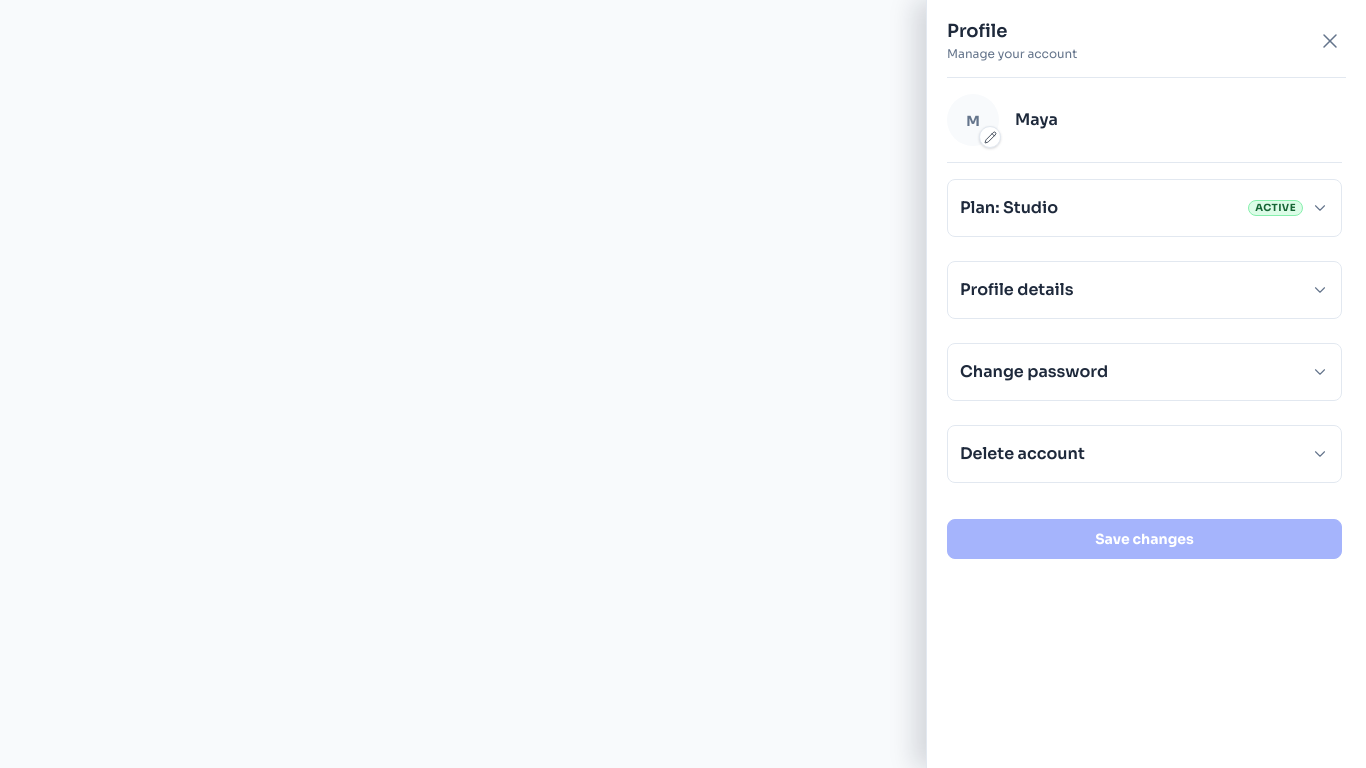
Scenario: ProfileDrawer › shows and removes account editors for owners
This screenshot has width=1366, height=768.
Click the button "Plan: Studio Active" at x=981, y=208, box [948,180,1341,236]
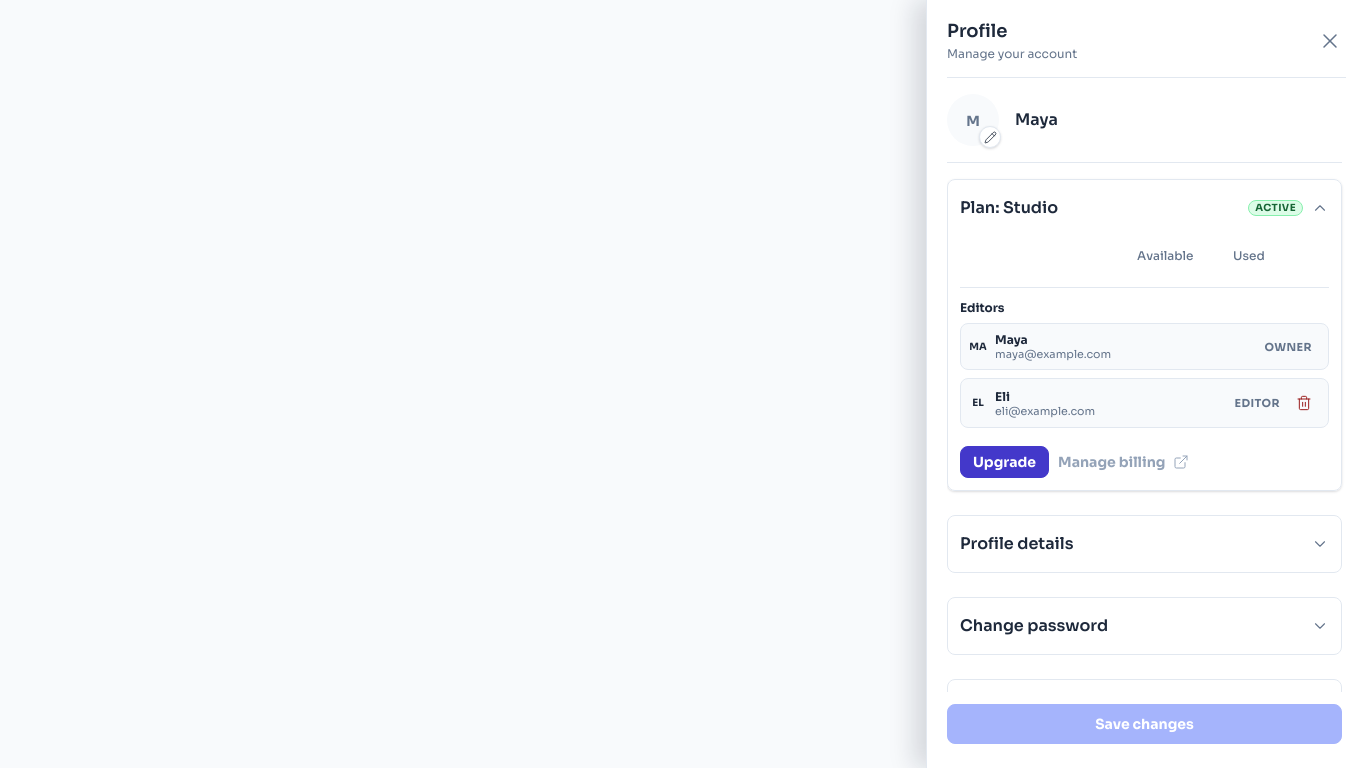
Expected: the text "Editors" is shown, [960,300,1004,315]
Expected: the text "Eli" is shown, [995,388,1010,404]
Expected: the text "eli@example.com" is shown, [995,404,1095,418]
Click the button named "Remove Eli" at x=1304, y=403, box [1288,387,1320,419]
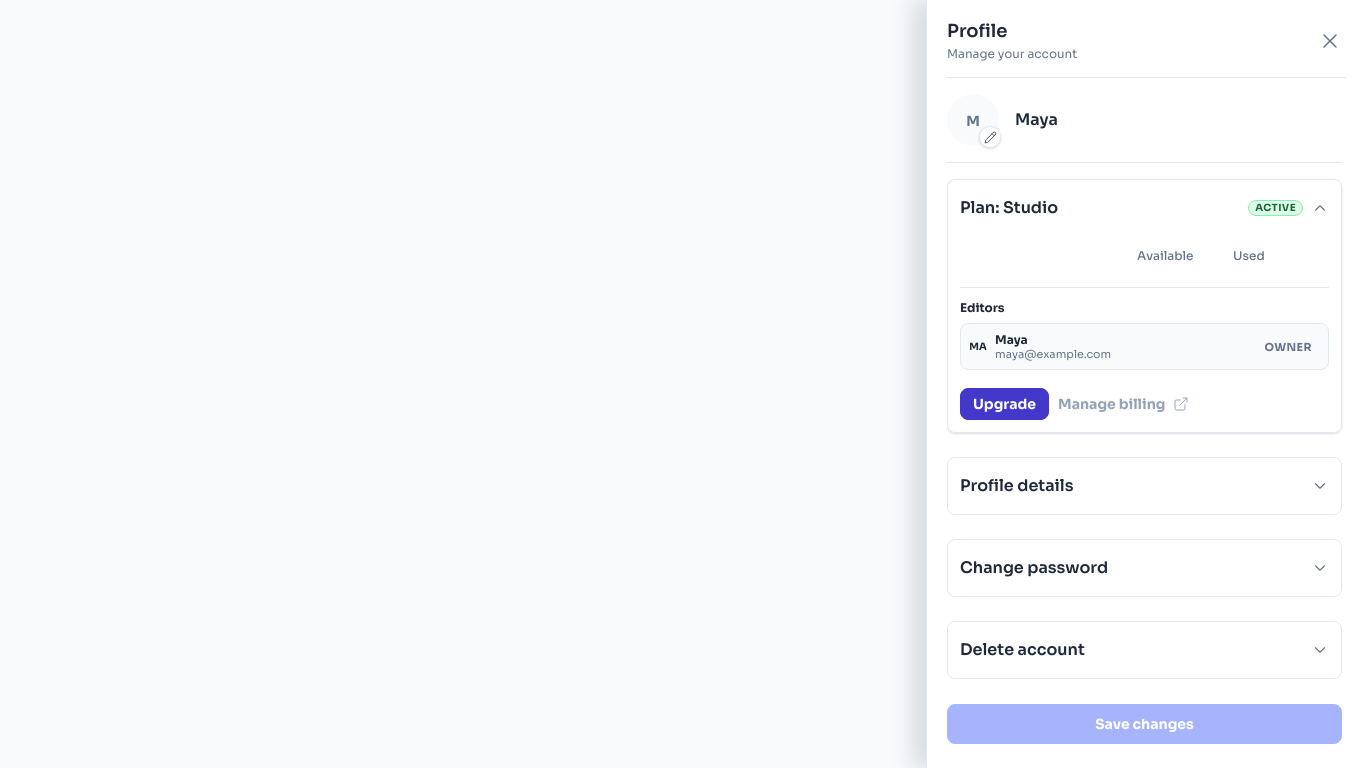
Expected: the text "Eli" is gone
